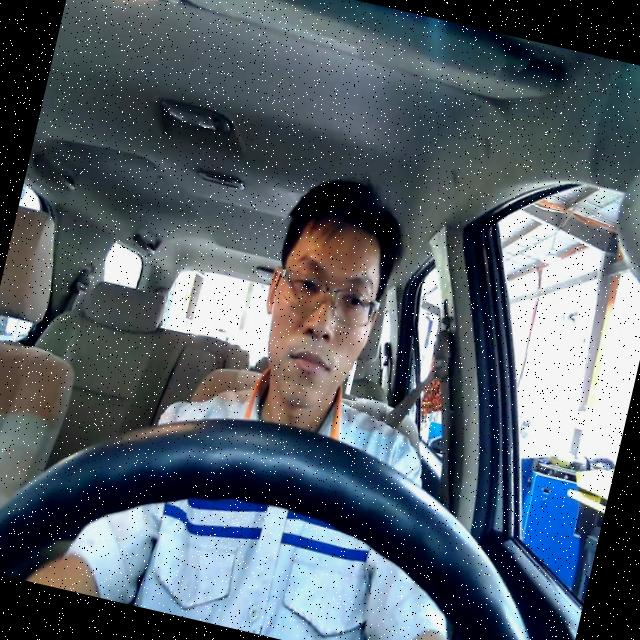focused: (242, 208, 394, 418)
